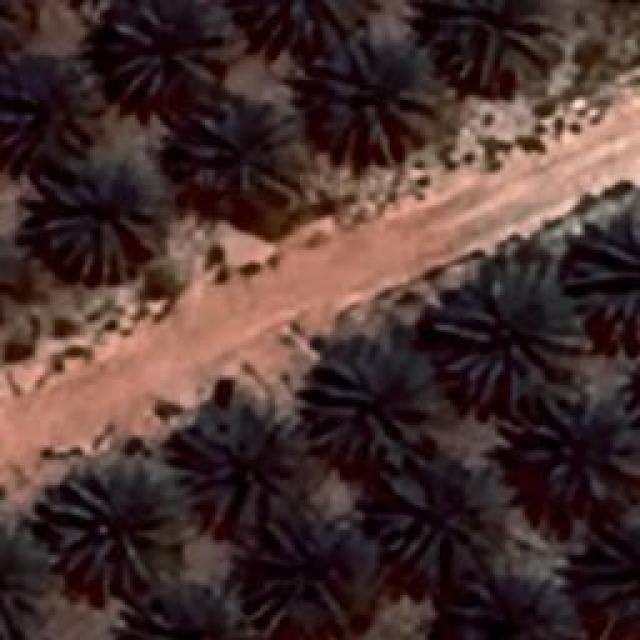PalmTree: (430, 255, 585, 390), (178, 382, 300, 528), (35, 150, 170, 280), (42, 465, 180, 590), (297, 342, 435, 462), (30, 57, 60, 581), (315, 27, 435, 155), (232, 512, 342, 630), (182, 97, 310, 195), (105, 0, 230, 95), (528, 395, 638, 500), (0, 54, 100, 168), (370, 462, 475, 568), (438, 0, 552, 88), (572, 211, 640, 351), (447, 567, 577, 640), (577, 505, 640, 640), (235, 0, 365, 50), (118, 592, 252, 640), (0, 228, 26, 332), (0, 230, 18, 332), (0, 0, 22, 50)
